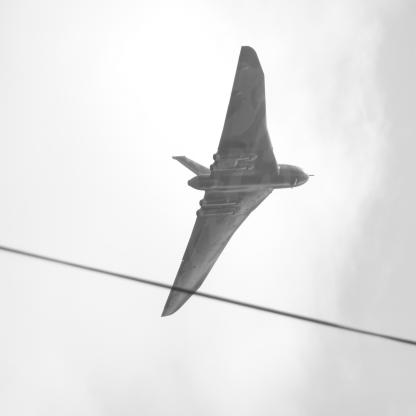Vulcan: (162, 47, 316, 318)
